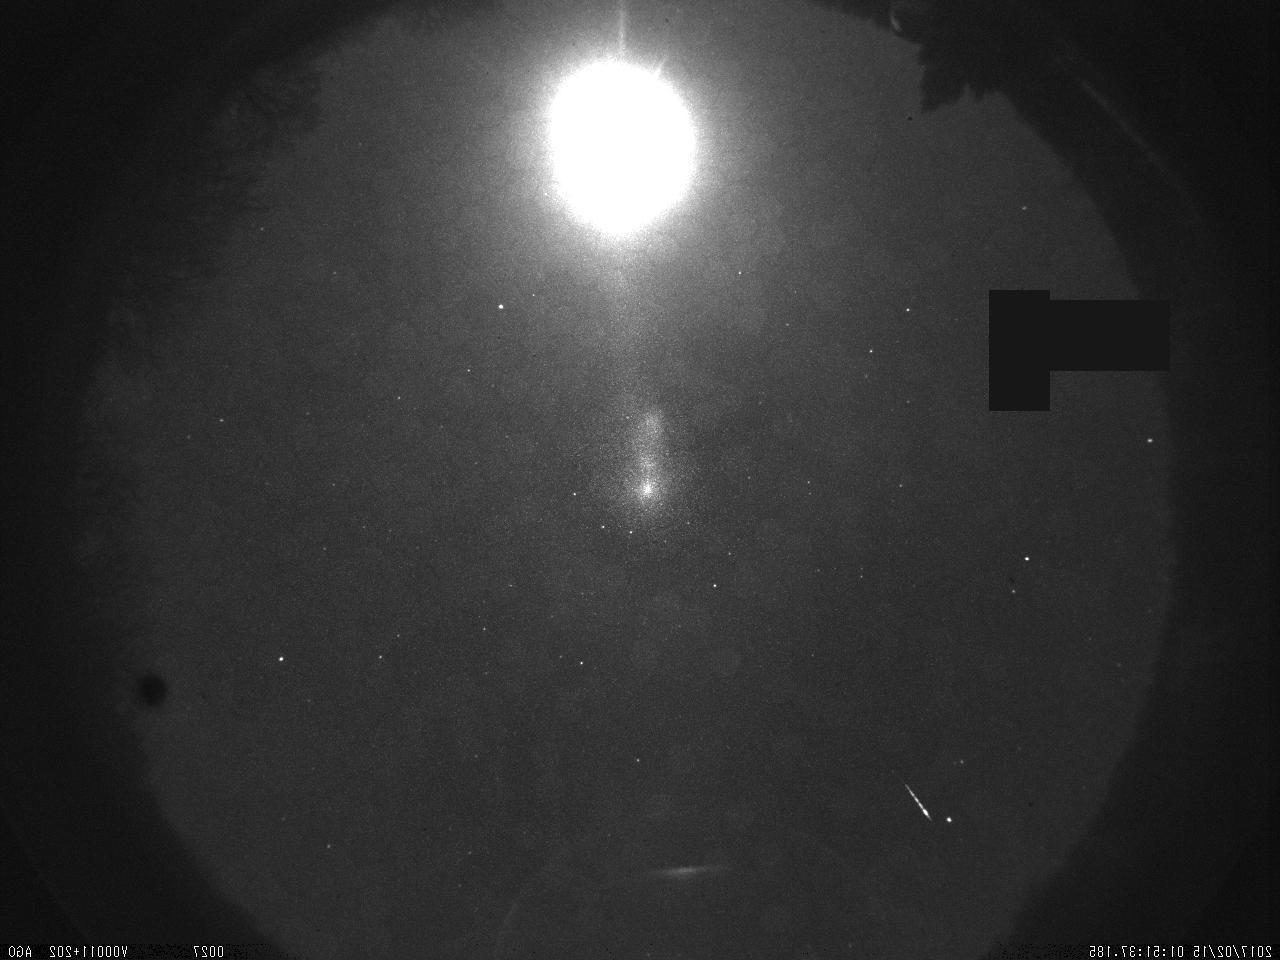meteor: (894, 768, 943, 833)
